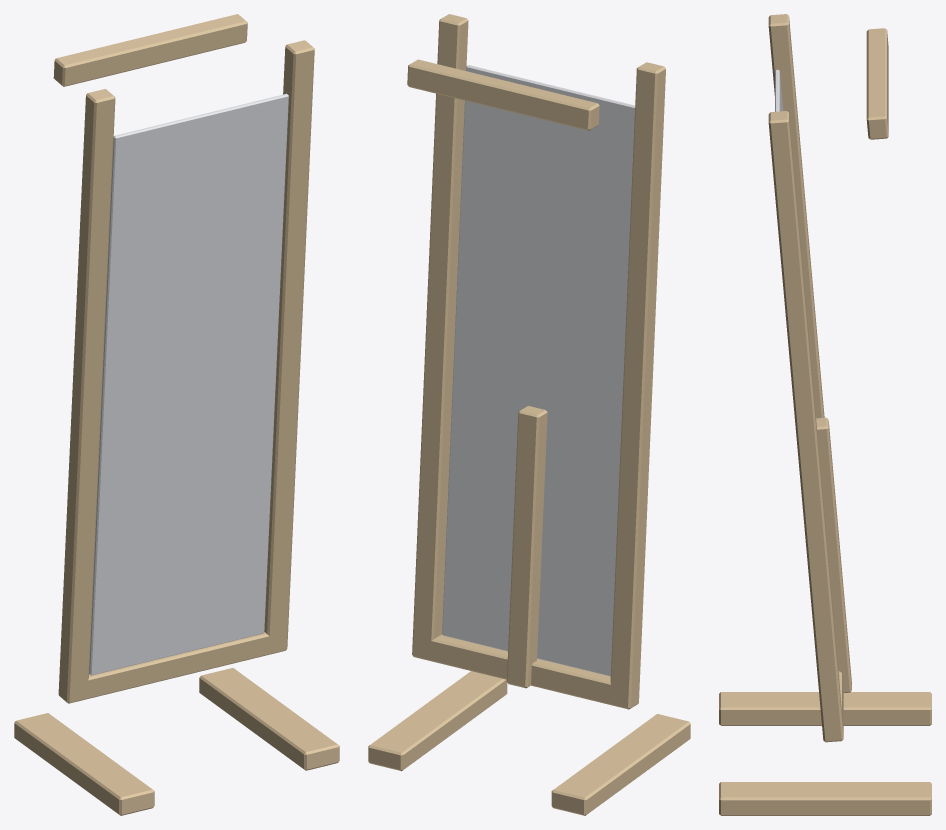
The model's file is clothing-rail-and-wardrobe-full-length-mirror-6e192a47__35471.glb.
The picture shows the model from 3 angles, left to right: view 1: azimuth 30°, elevation 25°; view 2: azimuth 150°, elevation 25°; view 3: azimuth 270°, elevation 25°; orthographic projection.
Visible parts, largest first — view 1: full-length-mirror; view 2: full-length-mirror; view 3: full-length-mirror.
Boxes of the visible parts, x1=… form: full-length-mirror: x1=14, y1=14, x2=339, y2=815; full-length-mirror: x1=368, y1=14, x2=690, y2=815; full-length-mirror: x1=719, y1=14, x2=931, y2=815.
Size of the model in its own units: 0.6201 by 1.88 by 0.52.
